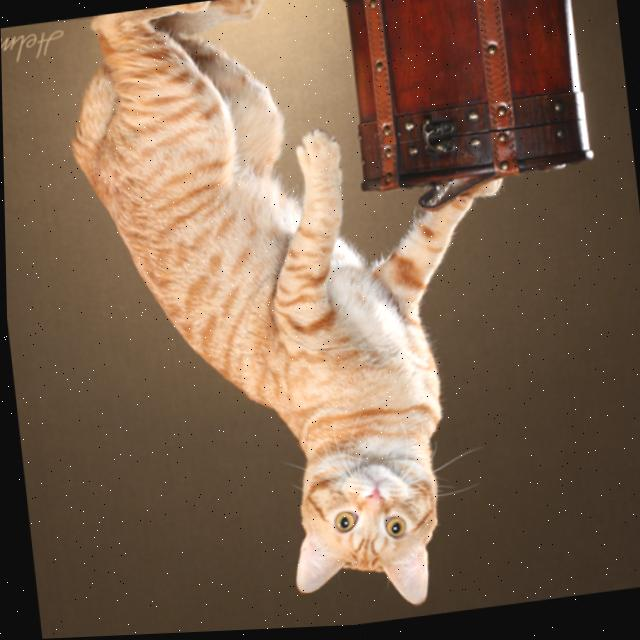American Bobtail: (53, 0, 550, 638)
